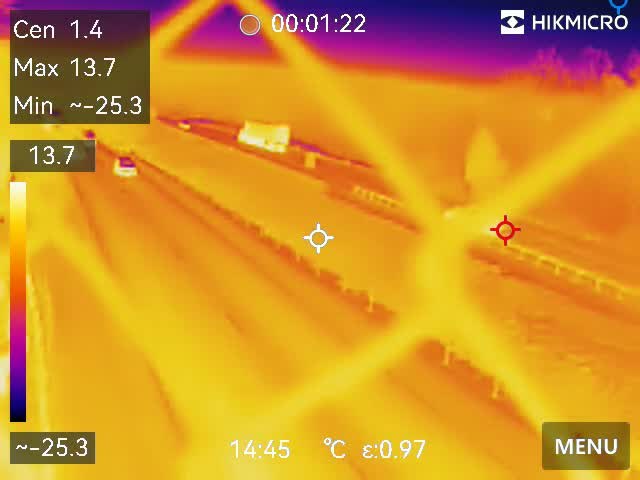heavyTruck: (235, 116, 294, 152)
vehicle: (111, 155, 138, 176), (178, 119, 190, 132)
